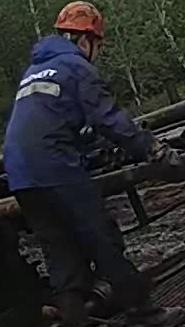gloves: (142, 140, 183, 167)
helmet: (52, 0, 104, 38)
vest: (1, 34, 103, 191)
